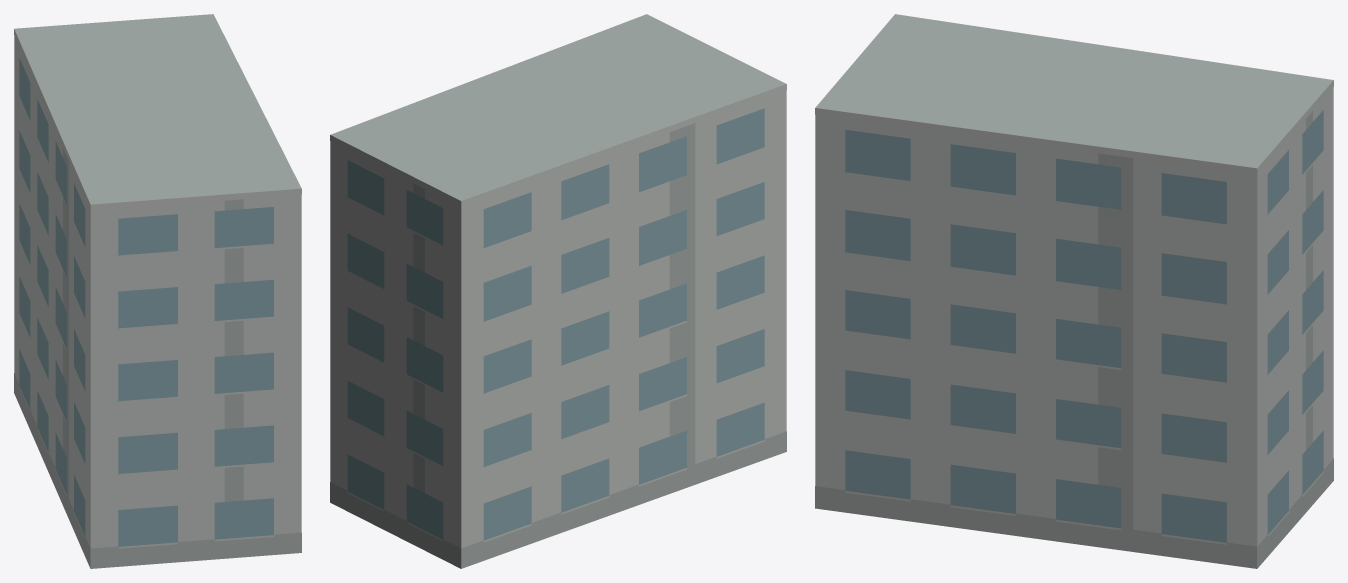
File: survey-upis-32889277.glb
The picture shows the model from 3 angles, left to right: view 1: azimuth 30°, elevation 25°; view 2: azimuth 150°, elevation 25°; view 3: azimuth 270°, elevation 25°; orthographic projection. The views are drawn at different scales.
Parts seen in each view (by area): view 1: survey-upis-32889277.tmp; view 2: survey-upis-32889277.tmp; view 3: survey-upis-32889277.tmp.
Boxes of the visible parts, x1=… form: survey-upis-32889277.tmp: x1=14, y1=14, x2=301, y2=568; survey-upis-32889277.tmp: x1=330, y1=14, x2=786, y2=568; survey-upis-32889277.tmp: x1=815, y1=14, x2=1333, y2=568.
Bounding box in the file's own units: 11.95 × 14.45 × 16.97.
